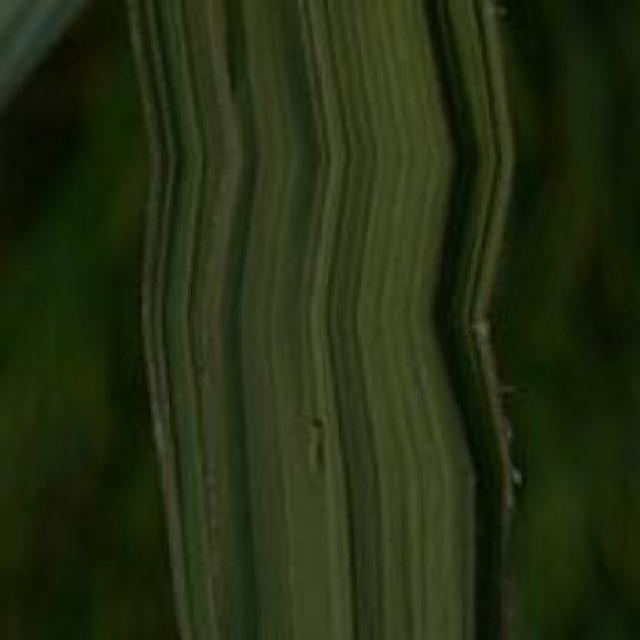leaf-folder: (282, 393, 340, 495)
